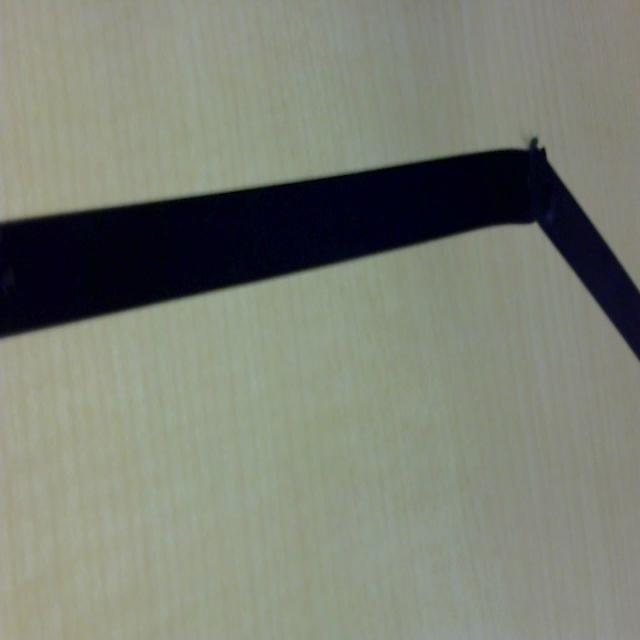tape: (0, 144, 640, 364)
